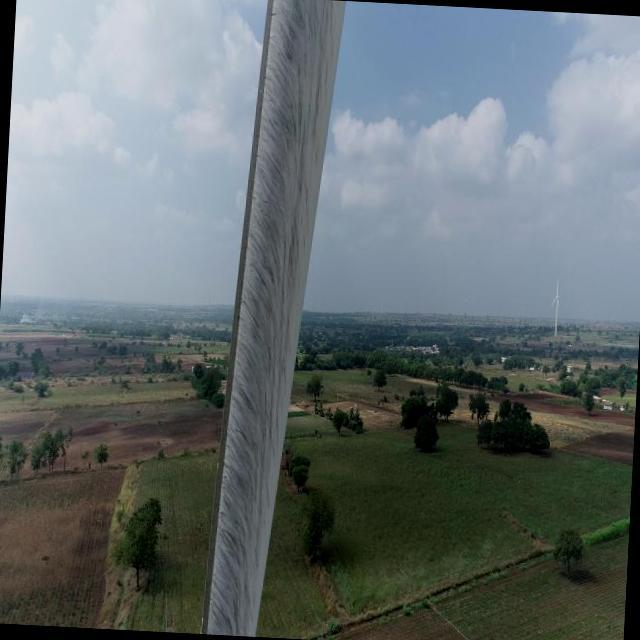Dirt: (202, 1, 345, 640)
